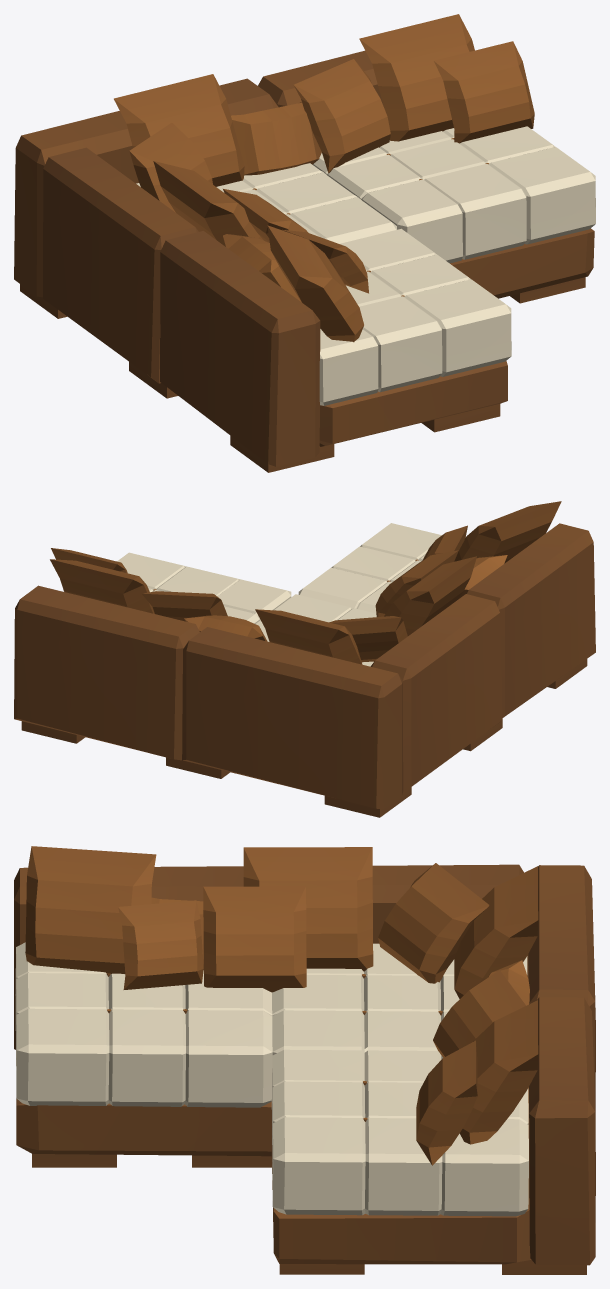
The model's file is Couch_2.fbx.
3 renders of one model, top to bottom at view 1: azimuth 30°, elevation 25°; view 2: azimuth 150°, elevation 25°; view 3: azimuth 270°, elevation 25°, orthographic. The views are drawn at different scales.
Visible parts, largest first — view 1: Couch_2; view 2: Couch_2; view 3: Couch_2.
Boxes of the visible parts, <box> form: Couch_2: <box>14,14,595,472</box>; Couch_2: <box>14,501,595,817</box>; Couch_2: <box>14,846,595,1274</box>.
Bounding box in the file's own units: 319 × 131 × 318.
